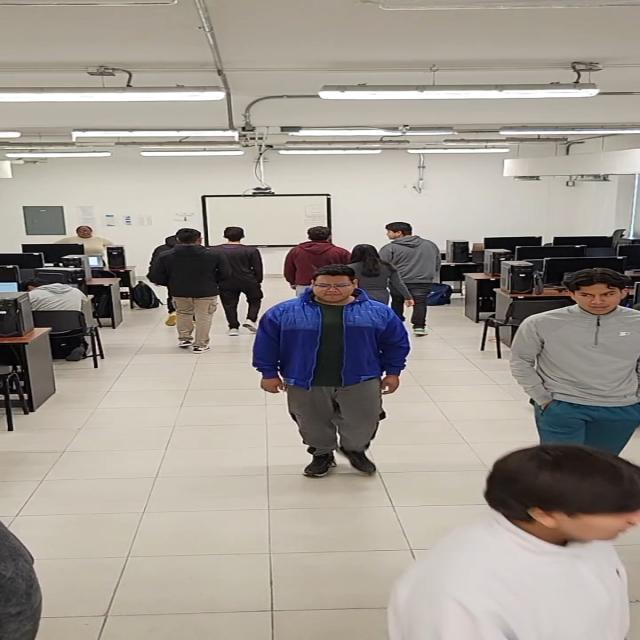Persona: (385, 443, 640, 640), (253, 265, 413, 479), (509, 267, 640, 453), (148, 228, 235, 354), (378, 222, 444, 335), (208, 226, 266, 336), (283, 226, 356, 302), (344, 243, 416, 310)
